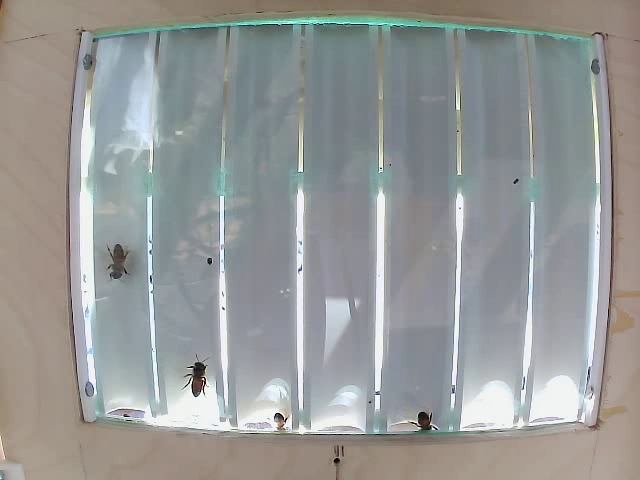bee: (172, 349, 225, 409), (96, 239, 141, 290)
